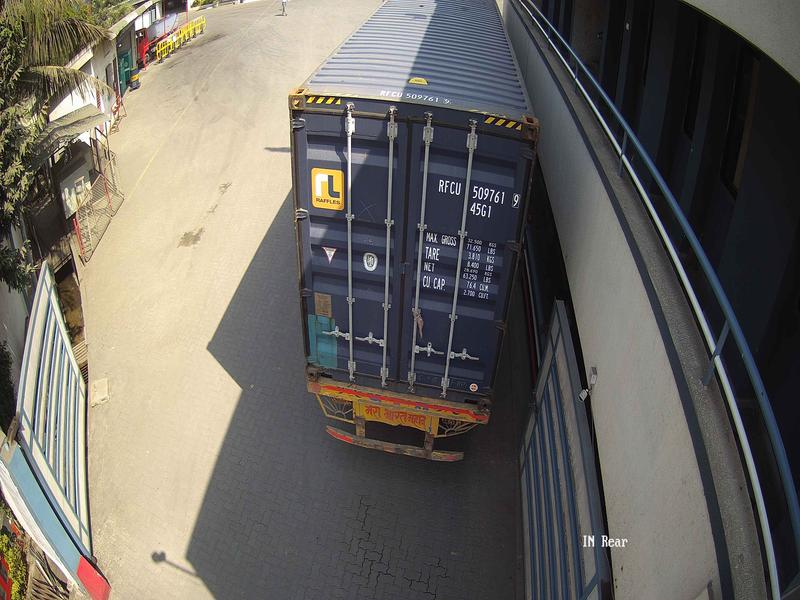container: (267, 72, 543, 420)
